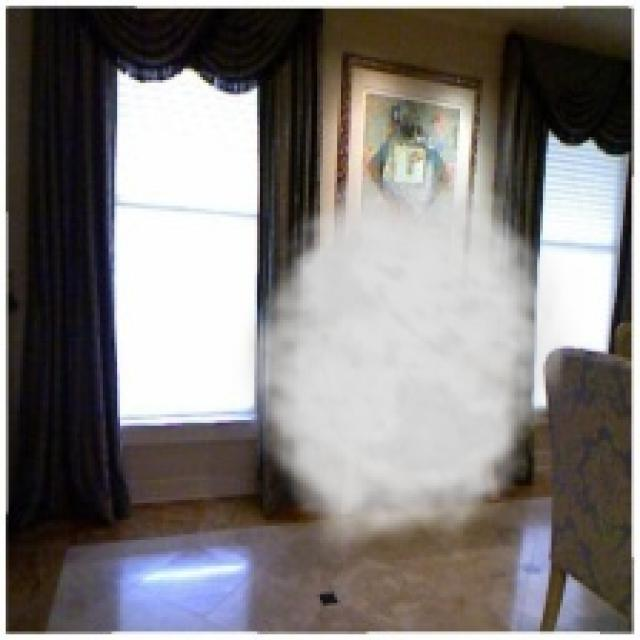smoke: (231, 154, 583, 563)
